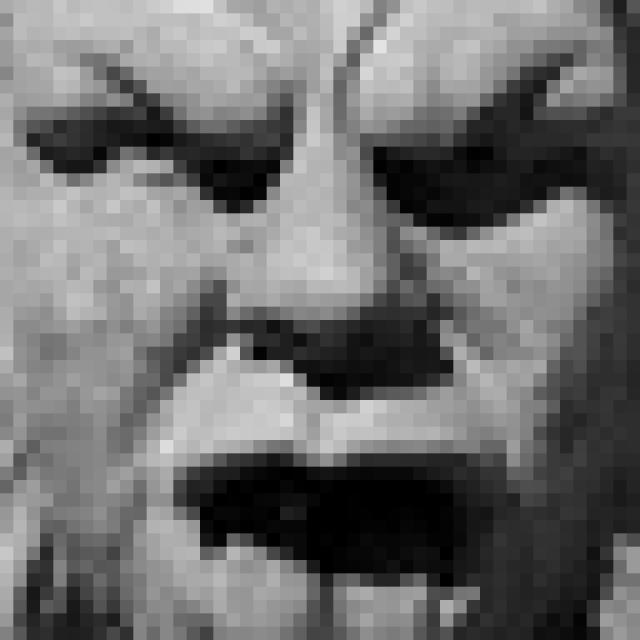disgust: (28, 40, 609, 640)
